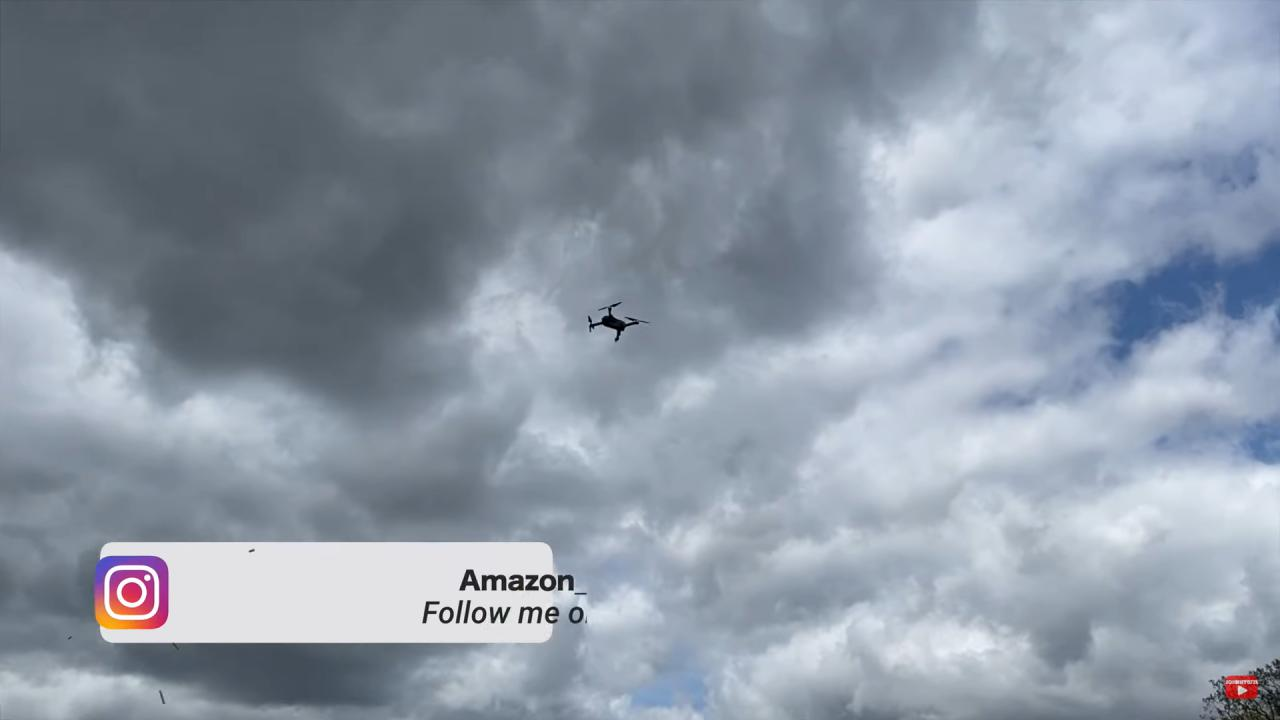Drone: (578, 290, 650, 356)
